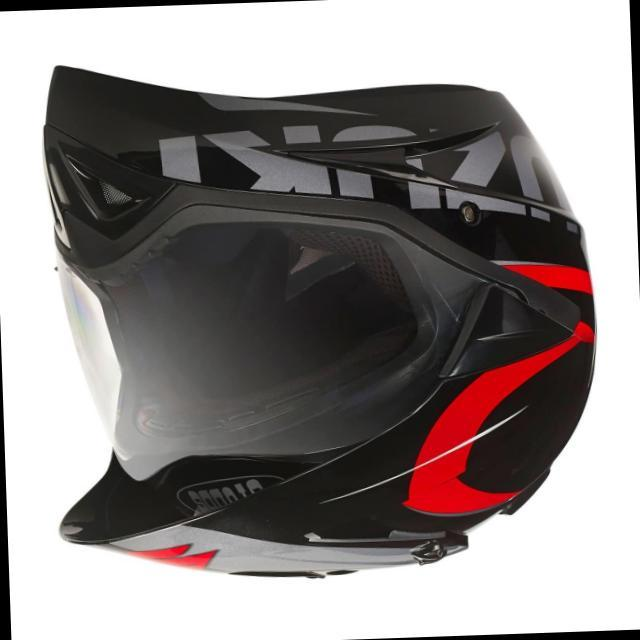Helm: (32, 38, 618, 593)
